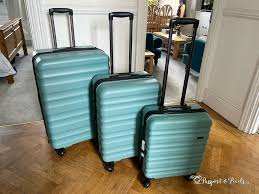suitcase: (135, 17, 213, 187), (30, 5, 111, 157), (88, 10, 160, 174)
